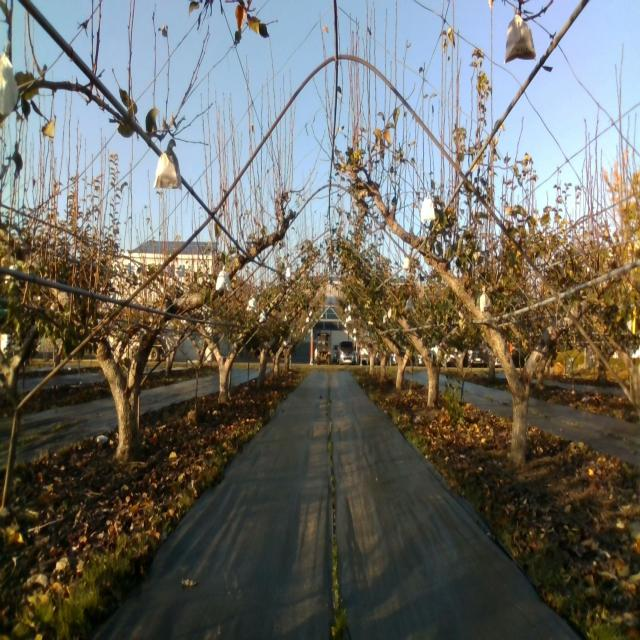pearbags: (503, 9, 538, 63), (0, 40, 19, 116), (152, 146, 181, 192), (420, 193, 436, 222), (215, 265, 231, 292), (480, 286, 490, 312), (246, 294, 257, 314)
